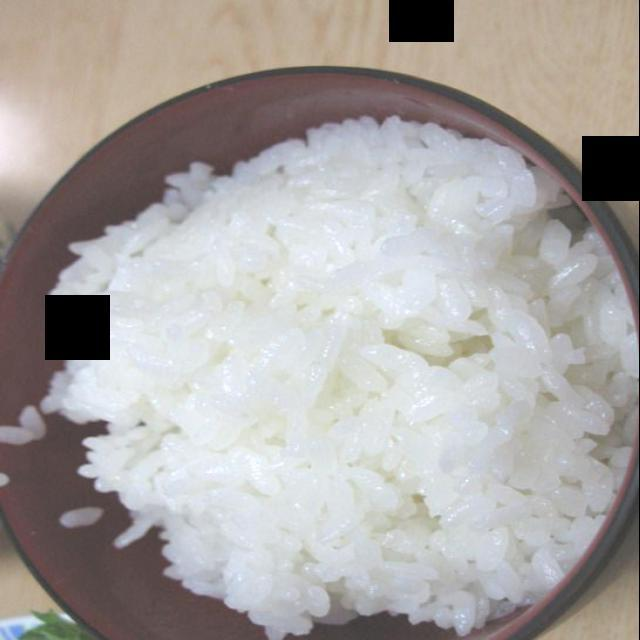rice: (45, 118, 640, 640)
